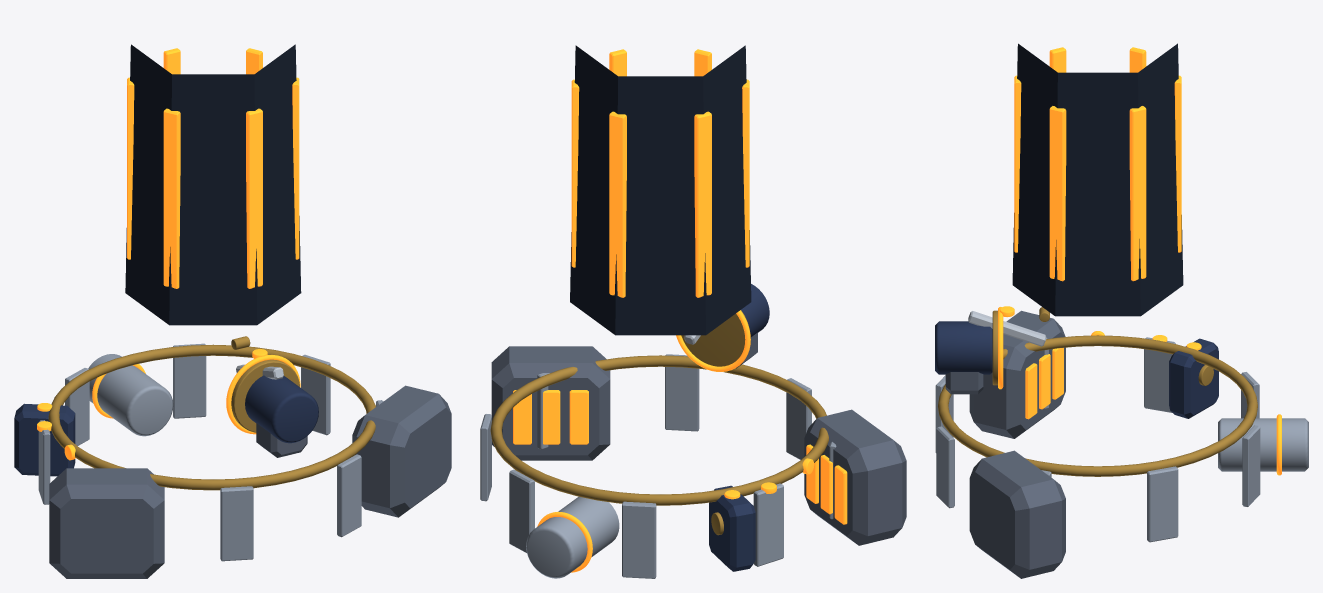
File: tower_overclock_efficiency_s10.glb
3 views of the same model, side by side, from view 1: azimuth 30°, elevation 25°; view 2: azimuth 150°, elevation 25°; view 3: azimuth 270°, elevation 25° (orthographic). The views are drawn at different scales.
Visible parts, largest first — view 1: overclock_core_shroud, overclock_battery_b, overclock_battery, overclock_coolant_loop, overclock_reserve_cell, overclock_governor, overclock_shroud_slot5, overclock_shroud_slot4, overclock_regulator, overclock_base_fin6, overclock_base_fin2, overclock_base_fin5 (+8 smaller); view 2: overclock_core_shroud, overclock_battery_b, overclock_battery, overclock_coolant_loop, overclock_reserve_cell, overclock_shroud_slot1, overclock_shroud_slot0, overclock_regulator, overclock_base_fin1, overclock_base_fin5, overclock_base_fin0, overclock_governor_wheel (+13 smaller); view 3: overclock_core_shroud, overclock_battery, overclock_coolant_loop, overclock_battery_b, overclock_reserve_cell, overclock_shroud_slot2, overclock_shroud_slot3, overclock_governor, overclock_regulator, overclock_base_fin3, overclock_base_fin0, overclock_base_fin2 (+9 smaller).
Part boxes in pixels (left/top/right/bottom): overclock_core_shroud: left=125, top=44, right=301, bottom=325; overclock_battery_b: left=49, top=468, right=164, bottom=578; overclock_battery: left=352, top=385, right=451, bottom=517; overclock_coolant_loop: left=48, top=344, right=375, bottom=490; overclock_reserve_cell: left=88, top=354, right=173, bottom=436; overclock_governor: left=245, top=375, right=318, bottom=443; overclock_shroud_slot5: left=163, top=108, right=180, bottom=288; overclock_shroud_slot4: left=246, top=108, right=262, bottom=288; overclock_regulator: left=14, top=403, right=75, bottom=476; overclock_base_fin6: left=220, top=486, right=253, bottom=561; overclock_base_fin2: left=173, top=343, right=206, bottom=418; overclock_base_fin5: left=337, top=454, right=361, bottom=537; overclock_core_shroud: left=570, top=45, right=751, bottom=335; overclock_battery_b: left=804, top=409, right=906, bottom=545; overclock_battery: left=491, top=346, right=610, bottom=460; overclock_coolant_loop: left=490, top=355, right=828, bottom=505; overclock_reserve_cell: left=526, top=496, right=619, bottom=578; overclock_shroud_slot1: left=609, top=111, right=626, bottom=297; overclock_shroud_slot0: left=694, top=111, right=711, bottom=297; overclock_regulator: left=709, top=485, right=755, bottom=571; overclock_base_fin1: left=622, top=501, right=656, bottom=578; overclock_base_fin5: left=665, top=354, right=699, bottom=431; overclock_base_fin0: left=753, top=483, right=783, bottom=566; overclock_governor_wheel: left=681, top=310, right=749, bottom=366; overclock_core_shroud: left=1012, top=43, right=1183, bottom=316; overclock_battery: left=969, top=450, right=1065, bottom=578; overclock_coolant_loop: left=938, top=335, right=1257, bottom=476; overclock_battery_b: left=969, top=310, right=1065, bottom=438; overclock_reserve_cell: left=1218, top=418, right=1308, bottom=471; overclock_shroud_slot2: left=1129, top=106, right=1146, bottom=281; overclock_shroud_slot3: left=1049, top=106, right=1066, bottom=281; overclock_governor: left=935, top=321, right=992, bottom=374; overclock_regulator: left=1169, top=338, right=1218, bottom=418; overclock_base_fin3: left=1147, top=466, right=1178, bottom=542; overclock_base_fin0: left=1144, top=337, right=1175, bottom=412; overclock_base_fin2: left=1242, top=425, right=1260, bottom=506.
Size of the model in its own units: 1.67 by 1.85 by 1.4.
